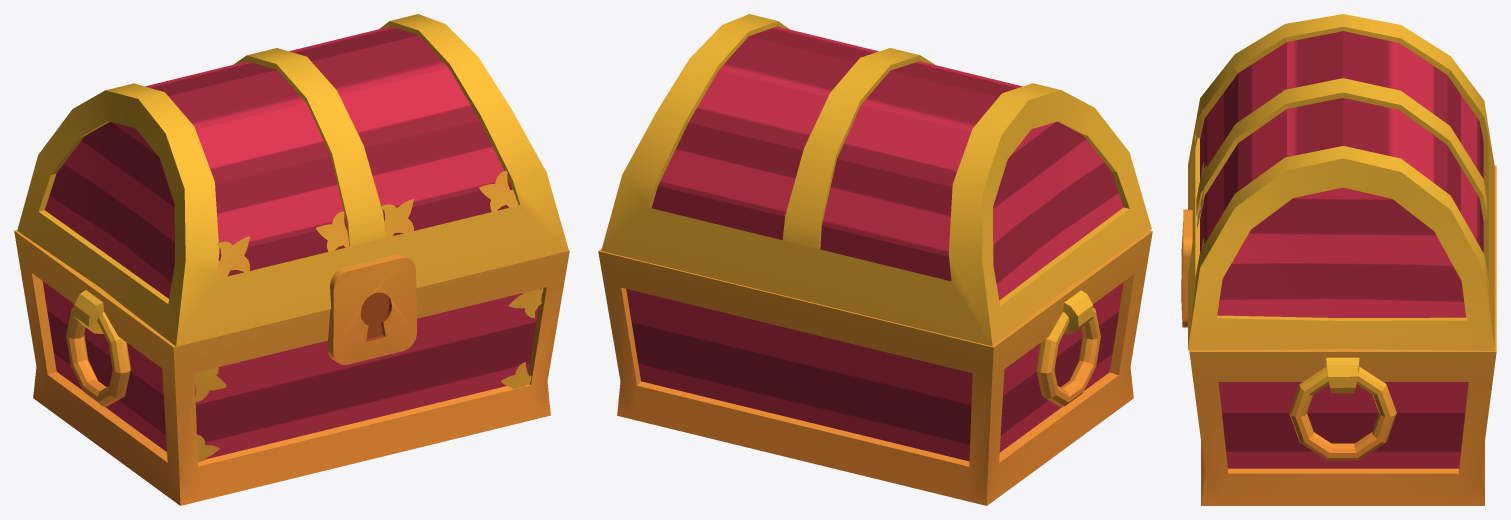
Rendered from chest3D.fbx.
3 views of the same model, side by side, from view 1: azimuth 30°, elevation 25°; view 2: azimuth 150°, elevation 25°; view 3: azimuth 270°, elevation 25° (orthographic). The views are drawn at different scales.
Visible parts, largest first — view 1: chest3; view 2: chest3; view 3: chest3.
Part boxes in pixels (bbox=[...]): chest3: bbox=[14, 14, 569, 505]; chest3: bbox=[598, 14, 1152, 505]; chest3: bbox=[1181, 14, 1496, 505].
Bounding box in the file's own units: 2.33 × 1.84 × 1.56.
